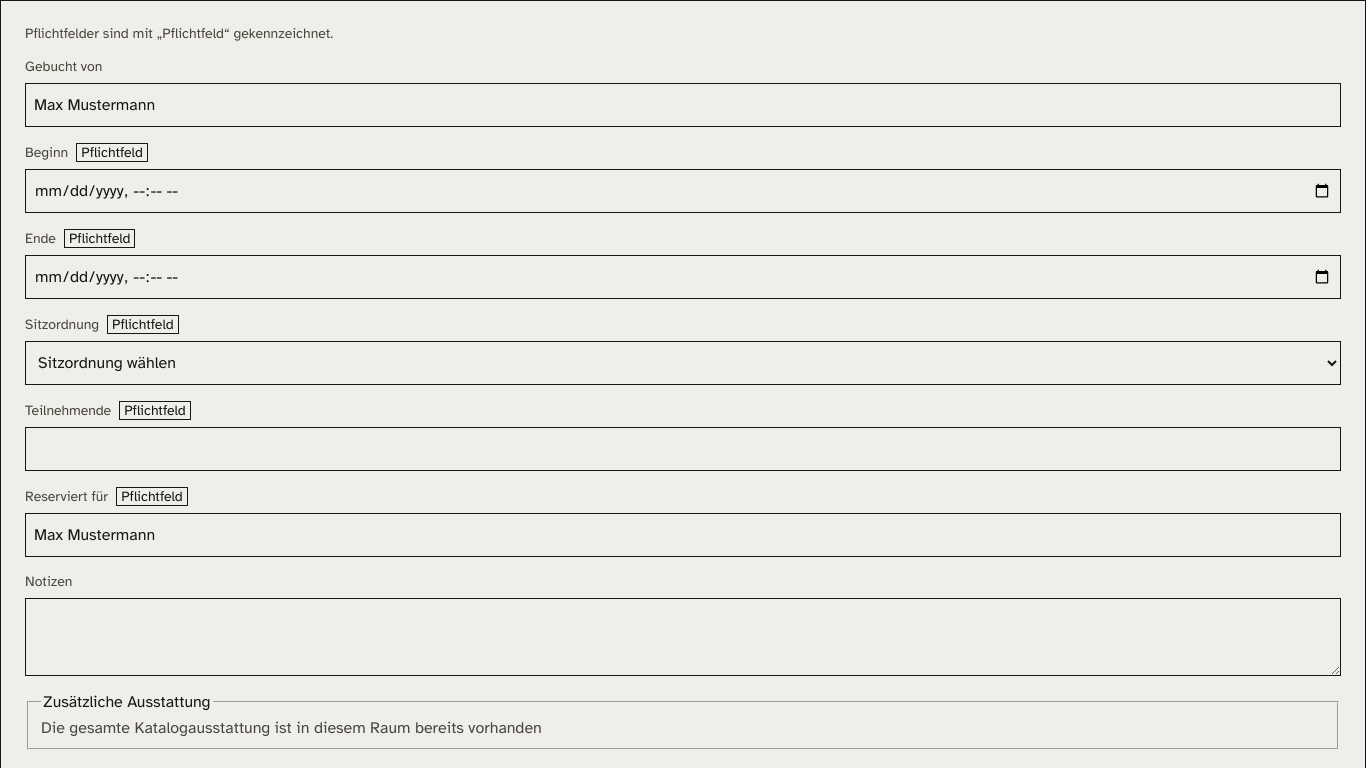
Test: ReservationForm › validates that reservedFor is mandatory and non-blank
This screenshot has width=1366, height=768.
Clear the field labelled "Reserviert für" at (683, 535), box [25, 513, 1341, 557]
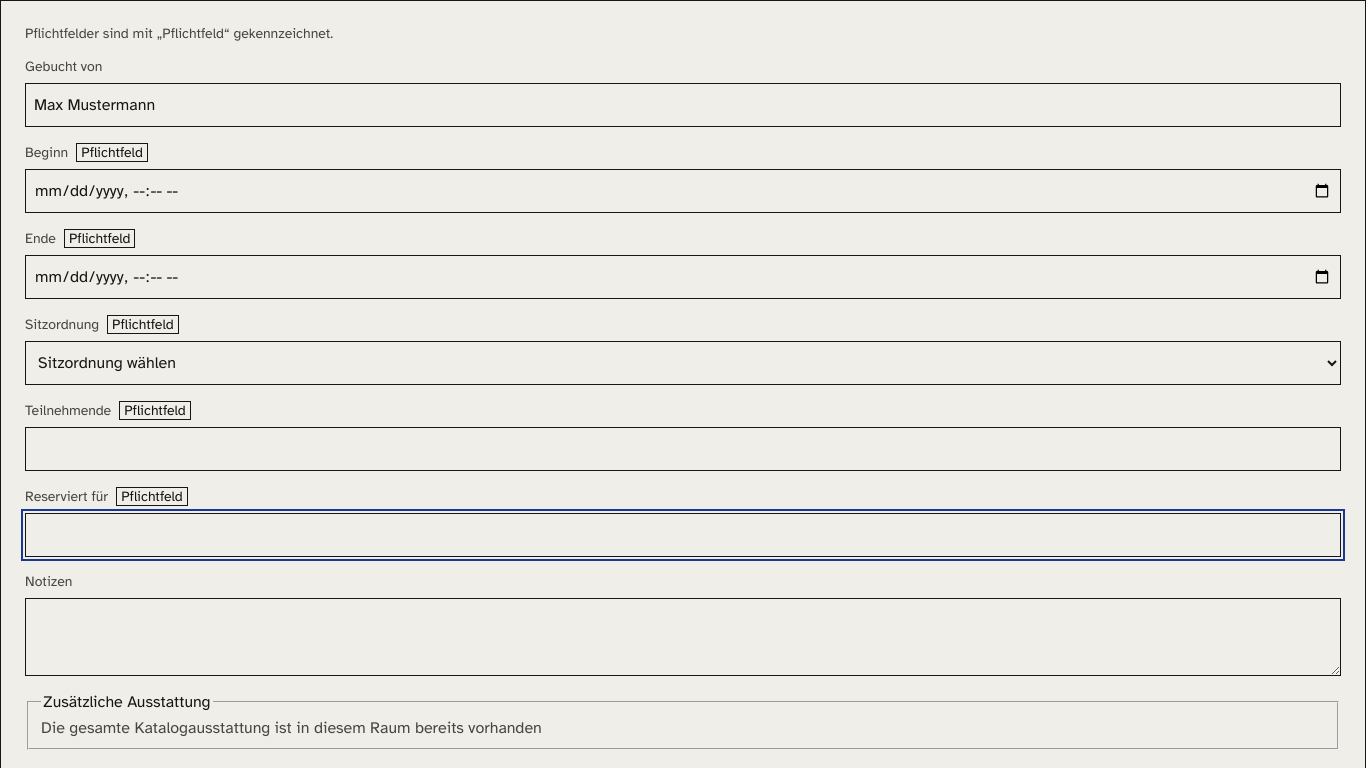
Type "2026-10-01T10:00" into the field labelled "Beginn" at (683, 191), box [25, 169, 1341, 213]
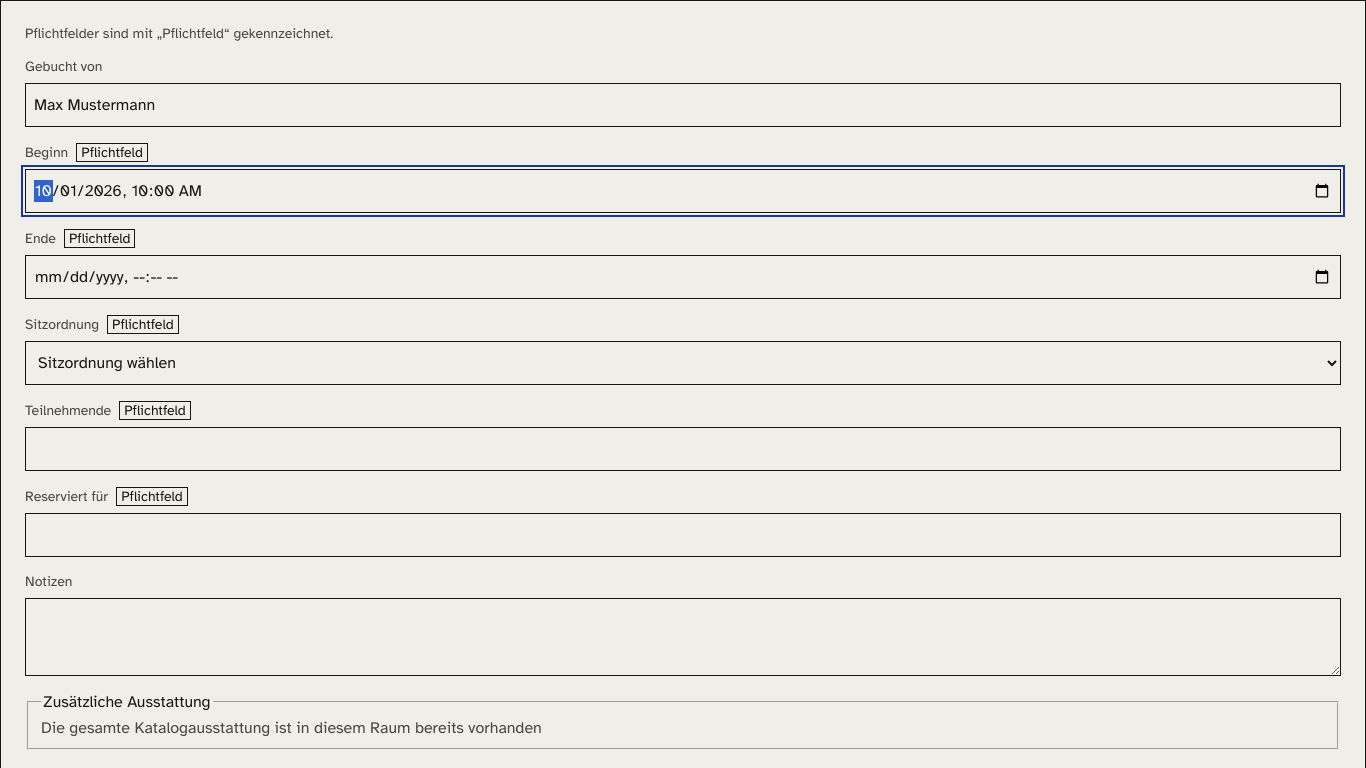
Type "2026-10-01T11:30" into the field labelled "Ende" at (683, 277), box [25, 255, 1341, 299]
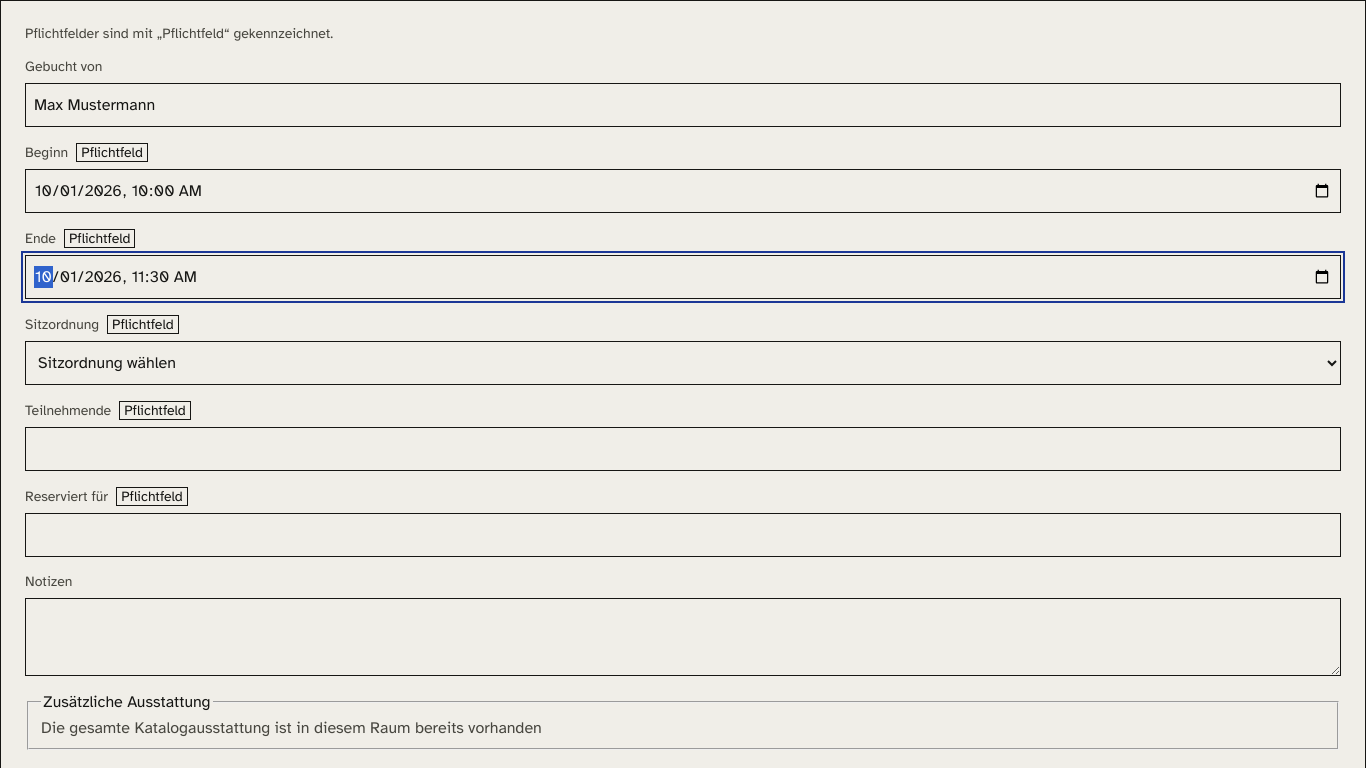
Select "Theater (Capacity: 40)" in the dropdown labelled "Sitzordnung" at (683, 363), box [25, 341, 1341, 385]
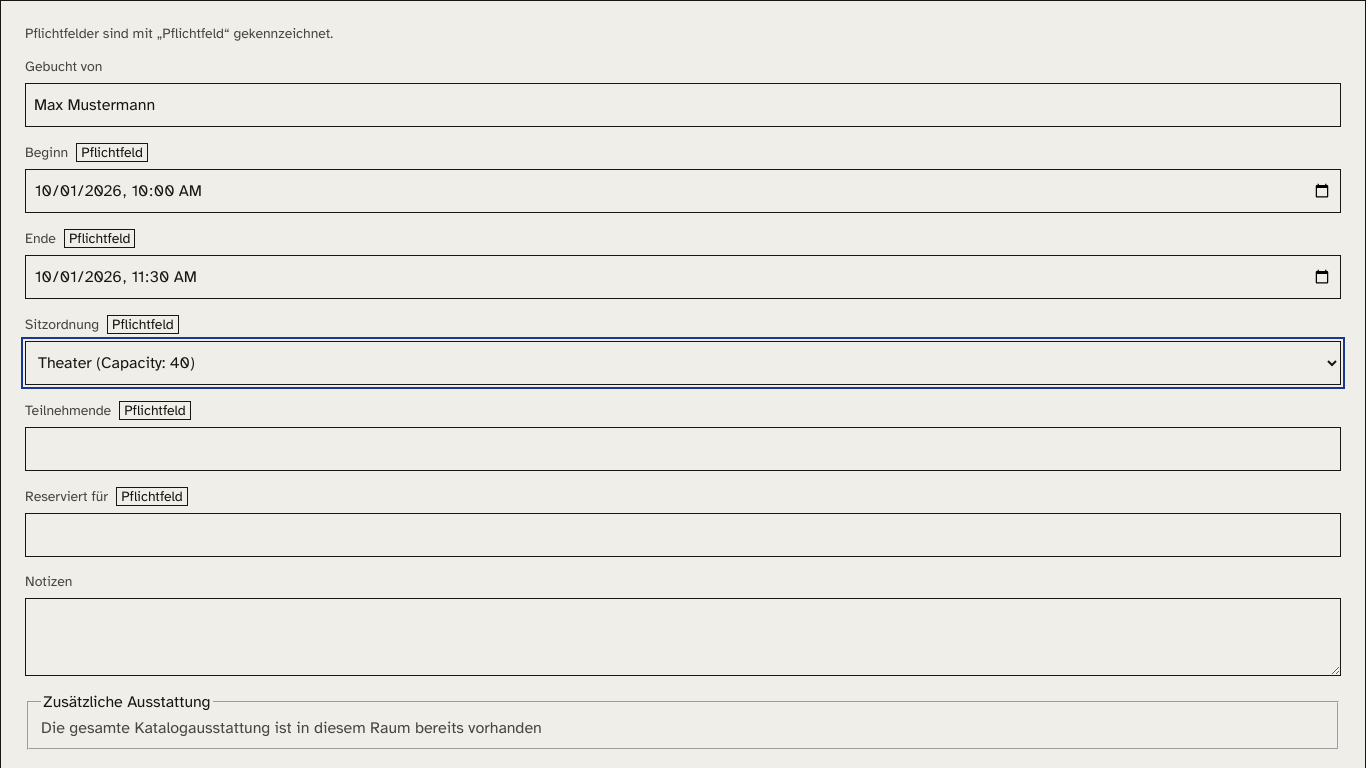
Type "30" into the number field labelled "Teilnehmende" at (683, 449), box [25, 427, 1341, 471]
(page scrolled)
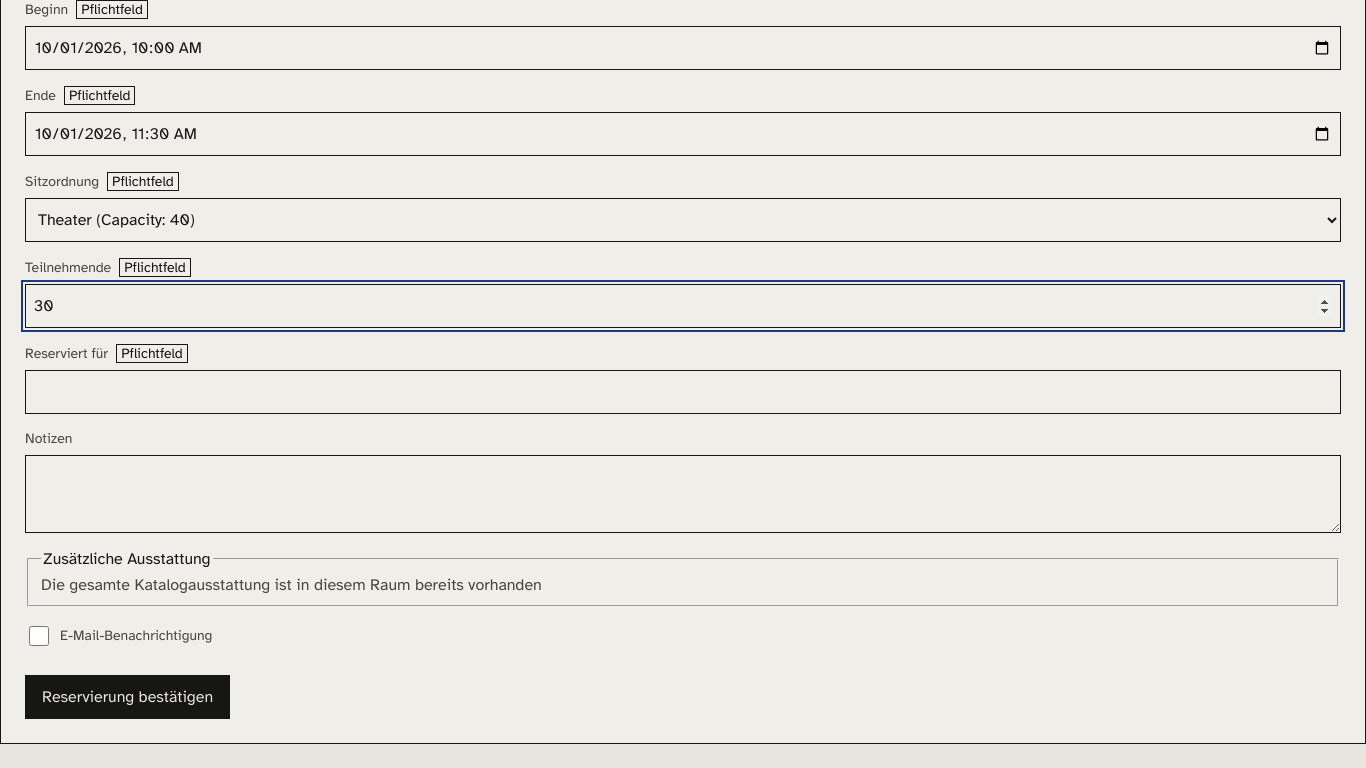
Click the button "Reservierung bestätigen" at (128, 697), box [25, 675, 230, 719]
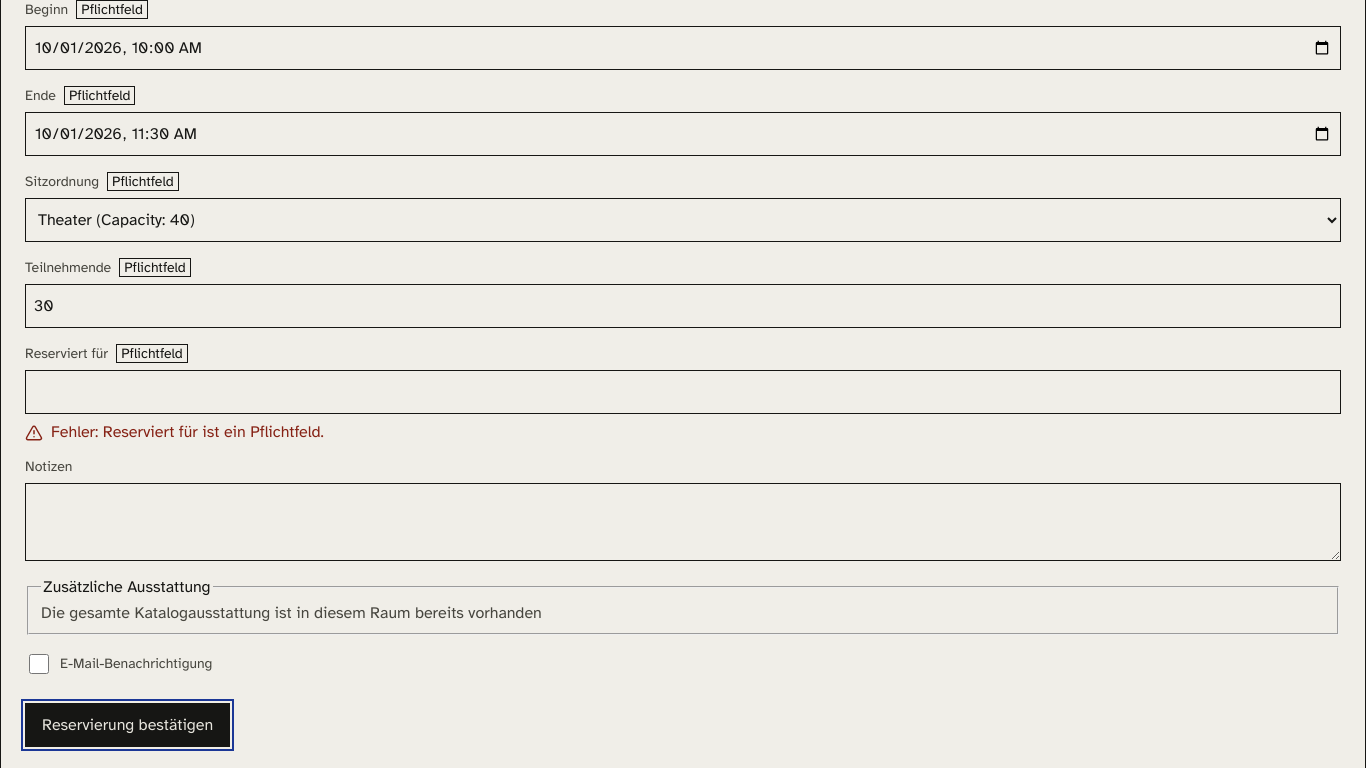
Expected: the text "Fehler: Reserviert für ist ein Pflichtfeld." is shown, [51, 422, 324, 442]
